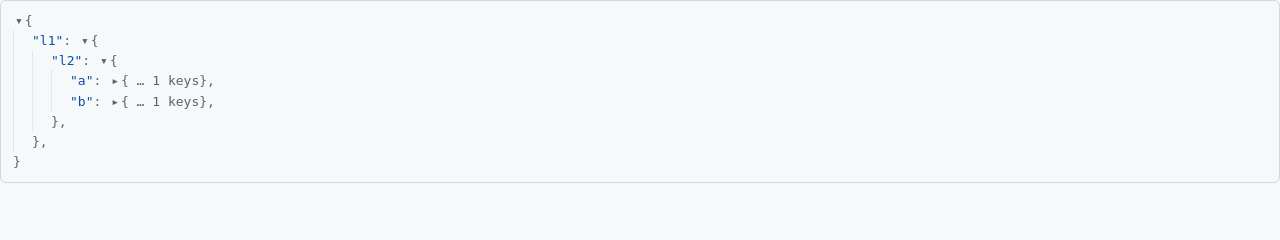
Test case: JsonViewer › collapses deep nodes and expands on click
Click the button "▸" next to "\"a\"": (115, 81) [109, 71, 121, 92]
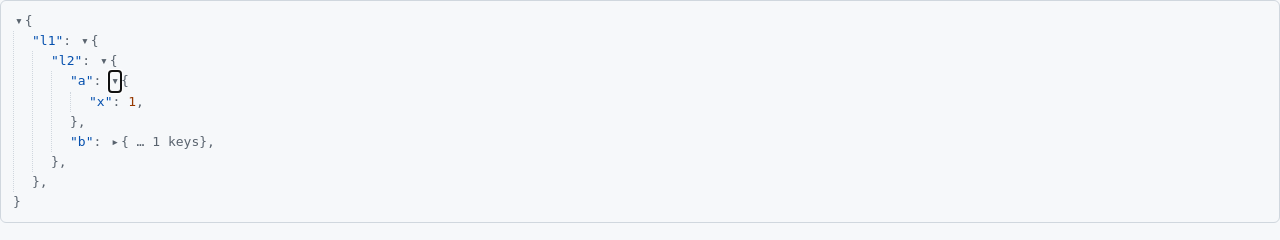
Expected: the text "1" is shown, [128, 94, 136, 109]
Expected: the button "▾" next to "\"a\"" is expanded, [109, 71, 121, 92]
